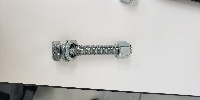FinishedAssembly: (49, 33, 134, 65)
